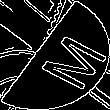M_NW: (14, 22, 96, 88)
